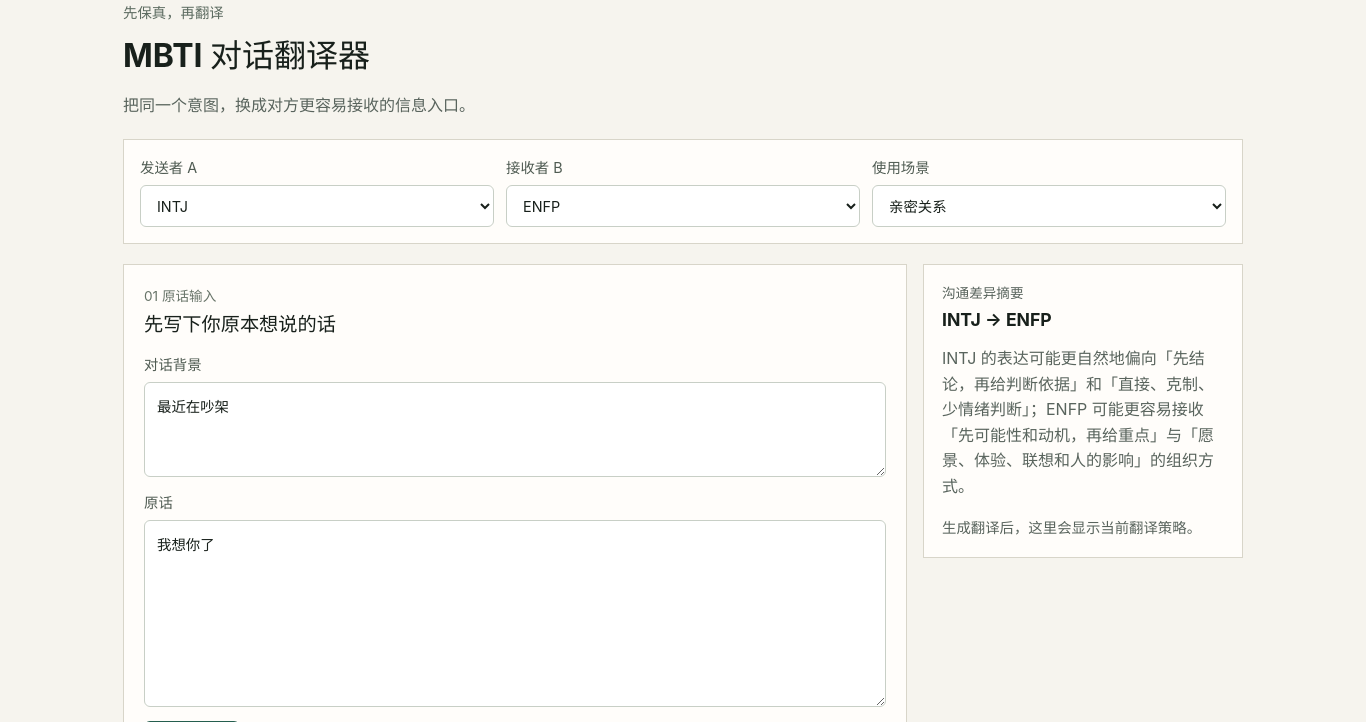
Test: shows supplemental confirmation only after intent confirmation
The image size is (1366, 722).
Replace the text in the text box labelled "原话" with "你一直拖着不回复，我很着急。" at (515, 614), box [144,520,886,707]
(page scrolled)
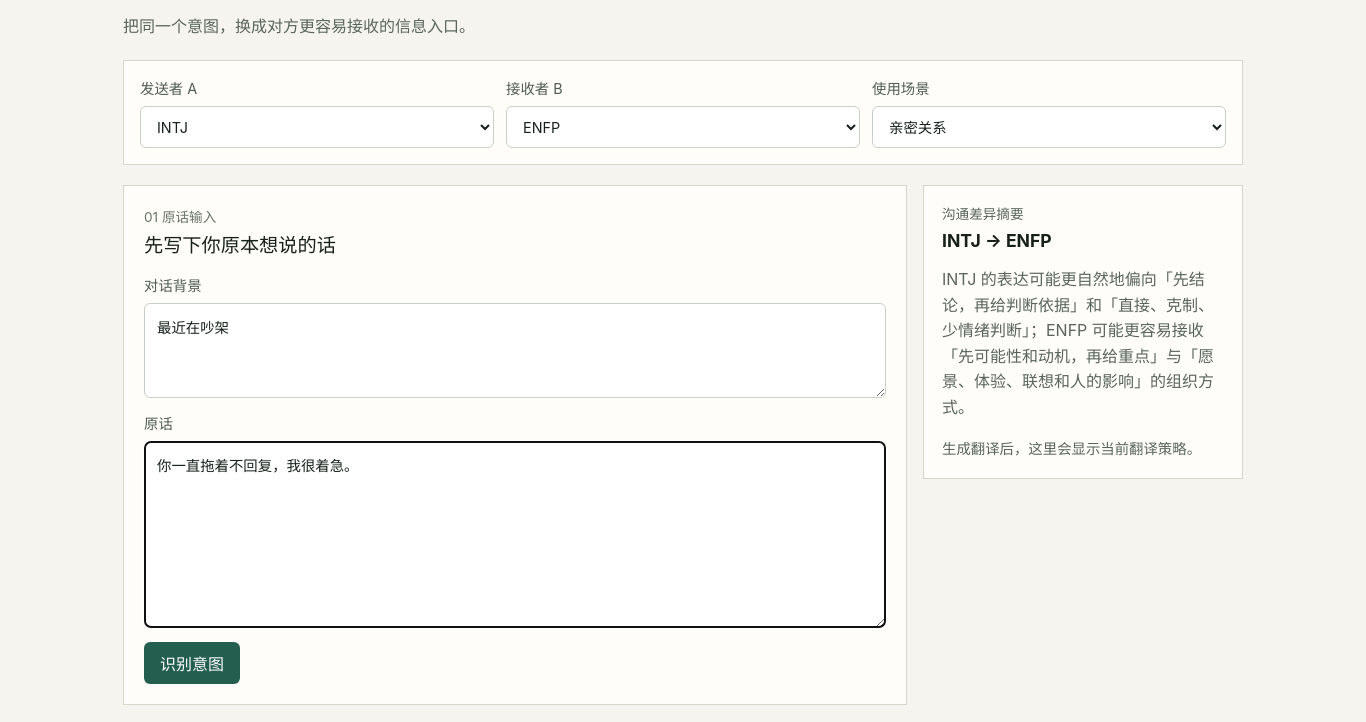
Click the button "识别意图".
click(192, 663)  # box [144,642,240,684]
(page scrolled)
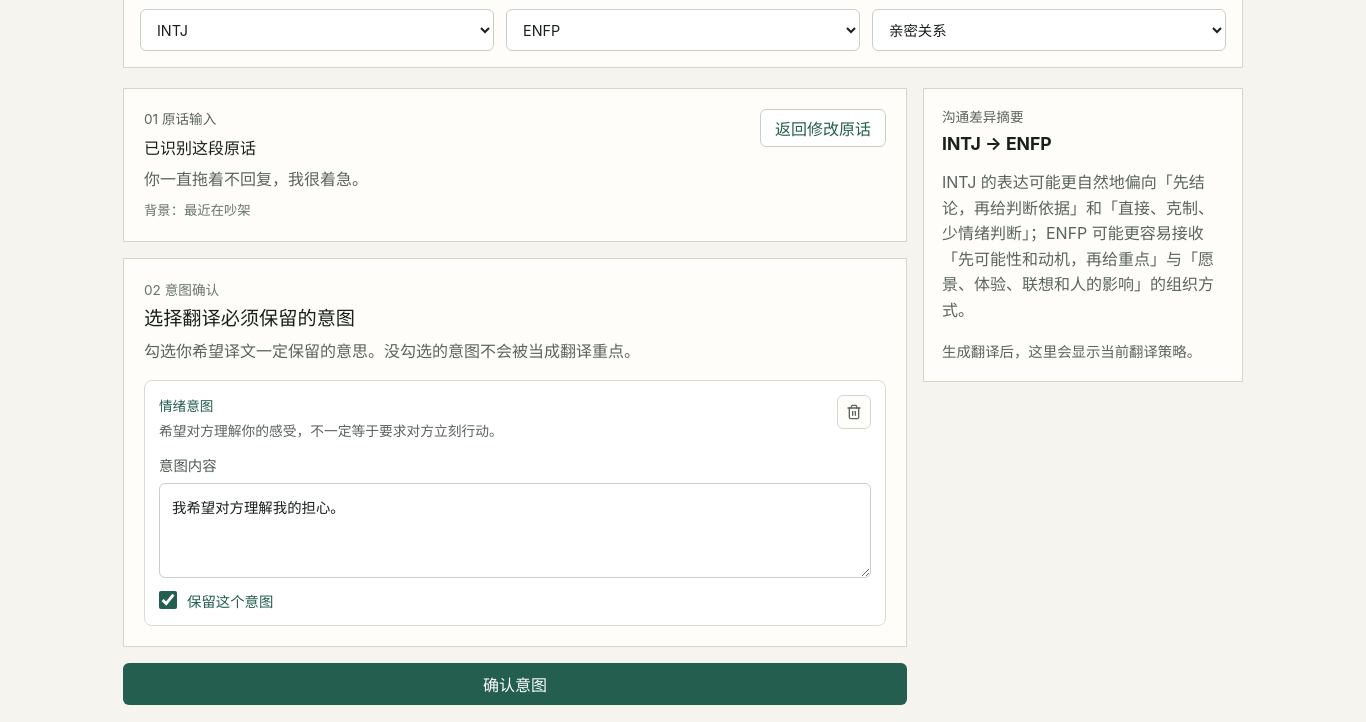
Expected: the text "表达强度确认" is not shown
Expected: the heading "选择翻译必须保留的意图" is shown, [144,306,355,330]
Click the button "确认意图".
click(515, 684)  # box [123,663,907,705]
(page scrolled)
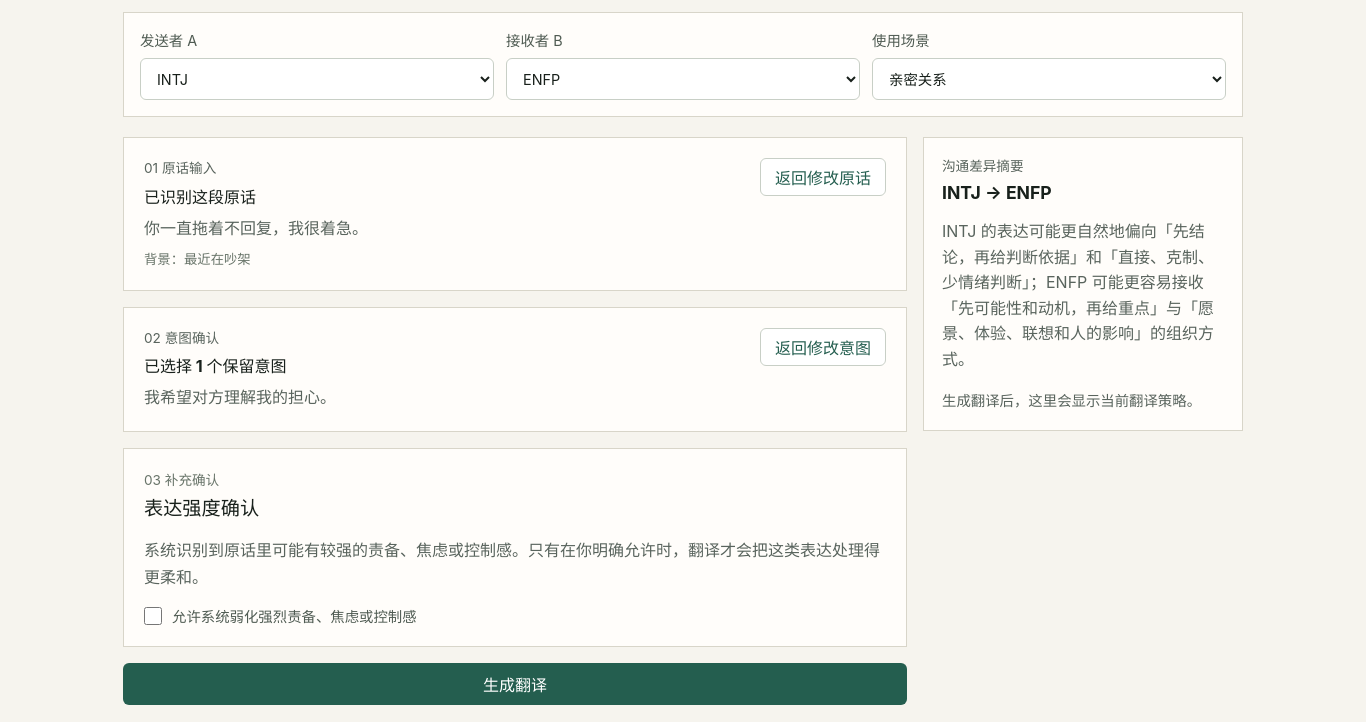
Expected: the heading "表达强度确认" is shown, [144,496,259,520]
Expected: the text "03 补充确认" is shown, [144,472,219,488]
